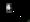person: (7, 4, 13, 14)
